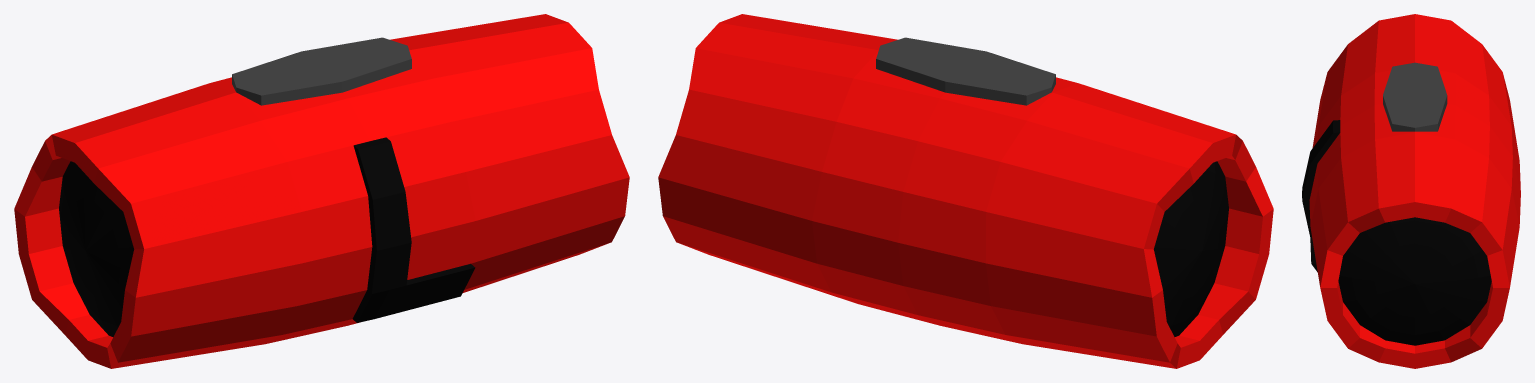
Rendered from Speaker.fbx.
3 renders of one model, left to right at view 1: azimuth 30°, elevation 25°; view 2: azimuth 150°, elevation 25°; view 3: azimuth 270°, elevation 25°, orthographic. The views are drawn at different scales.
Parts seen in each view (by area): view 1: Cylinder; view 2: Cylinder; view 3: Cylinder.
Part boxes in pixels (x1,y1,x2,y2): Cylinder: (14,14,629,368); Cylinder: (658,14,1273,368); Cylinder: (1302,14,1520,368).
Bounding box in the file's own units: 21.11 × 10.19 × 10.39.
